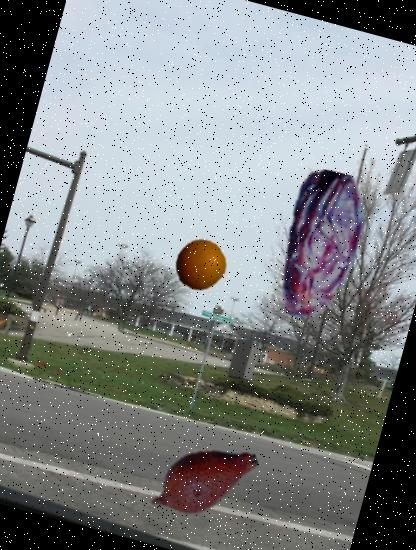Dates: (230, 153, 414, 338)
Orange: (170, 234, 232, 296)
Salak: (132, 410, 274, 550)
